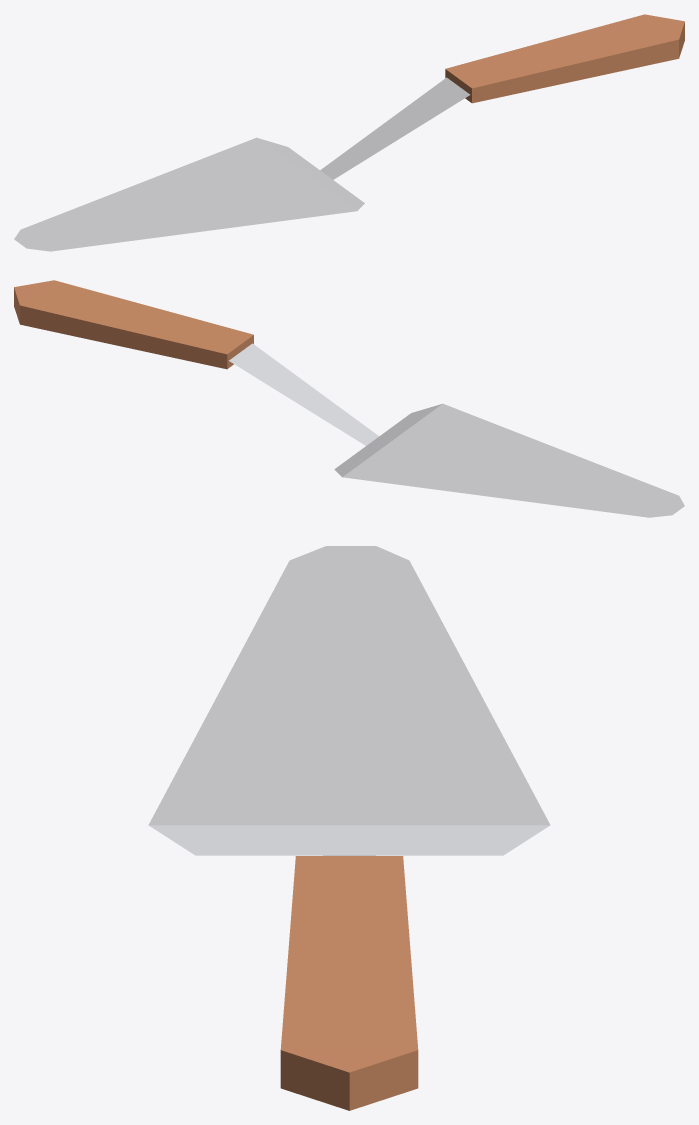
File: cakeSlicer.fbx
The picture shows the model from 3 angles, top to bottom: view 1: azimuth 30°, elevation 25°; view 2: azimuth 150°, elevation 25°; view 3: azimuth 270°, elevation 25°; orthographic projection. The views are drawn at different scales.
Visible parts, largest first — view 1: cakeSlicer; view 2: cakeSlicer; view 3: cakeSlicer.
Part boxes in pixels (x1,y1,x2,y2): cakeSlicer: (14,14,684,251); cakeSlicer: (14,280,684,517); cakeSlicer: (148,546,550,1110).
Bounding box in the file's own units: 7.25 × 0.6924 × 1.9.
